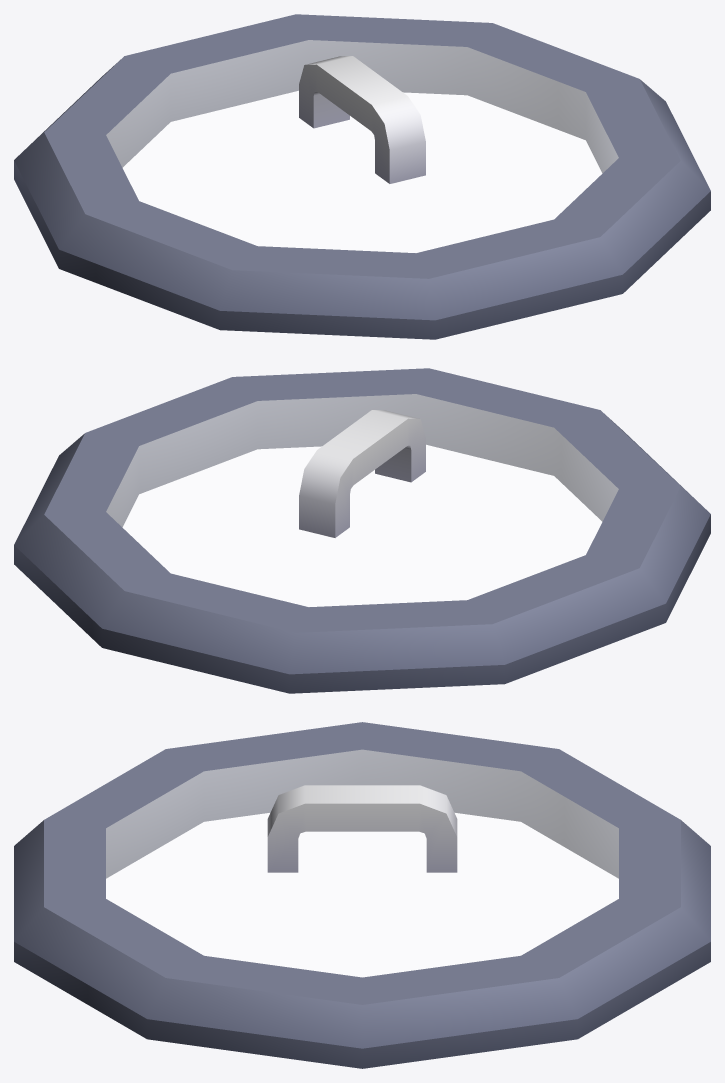
The model's file is pot-stew-lid.glb.
3 views of the same model, one above another, from view 1: azimuth 30°, elevation 25°; view 2: azimuth 150°, elevation 25°; view 3: azimuth 270°, elevation 25° (orthographic). The views are drawn at different scales.
Parts seen in each view (by area): view 1: pot-stew-lid, (%ignore); view 2: pot-stew-lid, (%ignore); view 3: pot-stew-lid, (%ignore).
Part boxes in pixels (x1,y1,x2,y2): pot-stew-lid: (14, 14, 710, 339); (%ignore): (106, 40, 618, 252); pot-stew-lid: (14, 368, 710, 693); (%ignore): (106, 394, 618, 606); pot-stew-lid: (14, 722, 710, 1068); (%ignore): (106, 749, 618, 977).
Bounding box in the file's own units: 0.6574 × 0.1184 × 0.6253.
